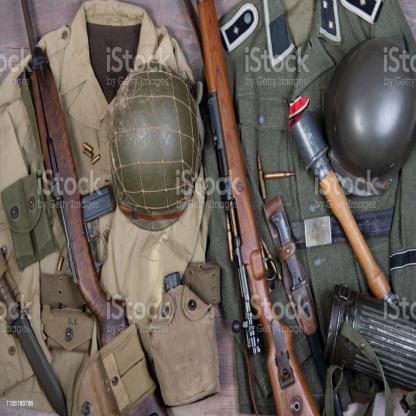Grenade: (289, 110, 398, 306)
Gun: (20, 0, 168, 416), (195, 0, 322, 416)
Knife: (261, 196, 344, 416), (0, 249, 68, 416)
